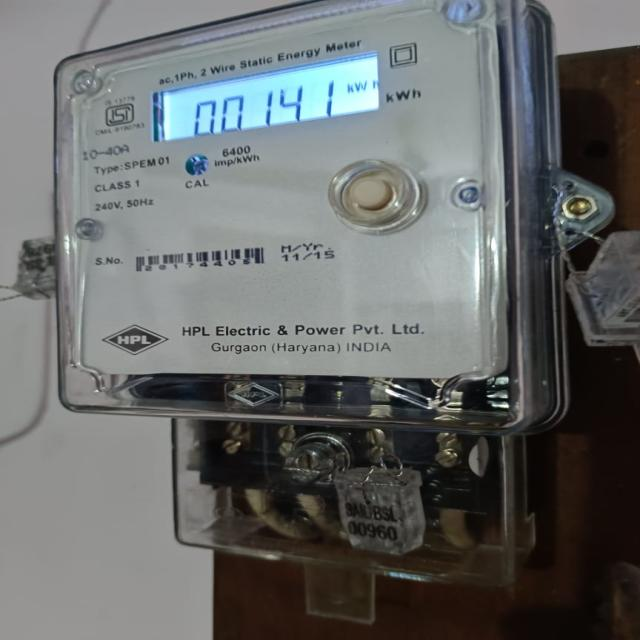display: (147, 78, 381, 145)
